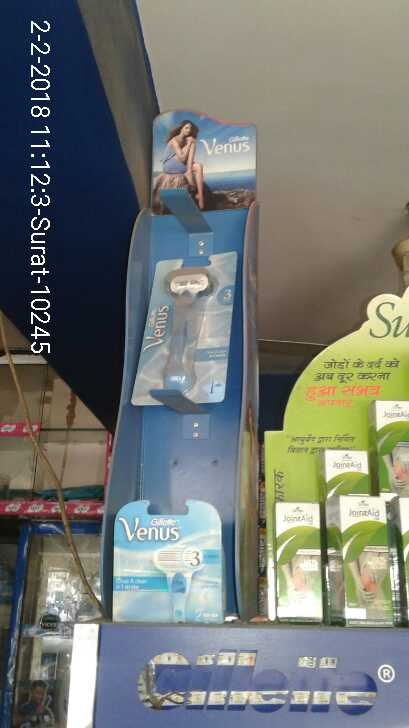venus: (117, 496, 232, 630), (144, 257, 235, 402)
